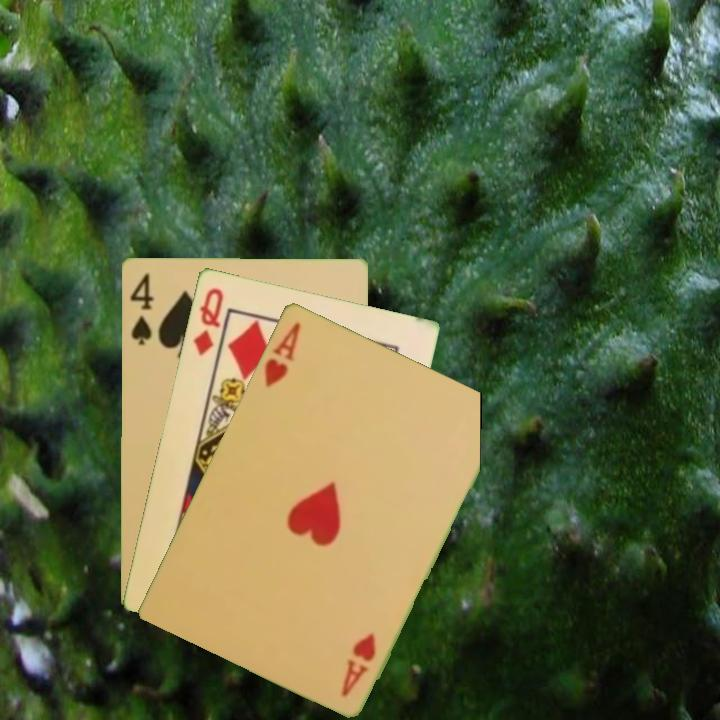4s: (126, 269, 156, 348)
Ah: (260, 318, 304, 389), (337, 628, 379, 699)
Qd: (188, 284, 226, 359)
